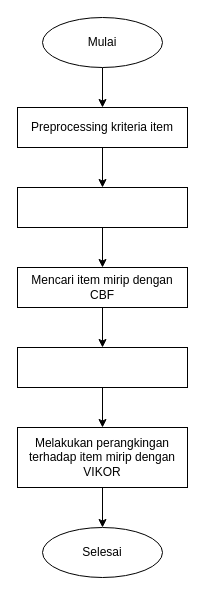
Some shapes in this 205 by 595 pixel diagram are drawn without their labels. The box of each missing label's shape, as (x1, y1, x2, y2) in pixels:
Membuat profil preferensi user: (16, 186, 188, 228)
Menentukan bobot kriteria item dengan AHP: (16, 346, 188, 388)
